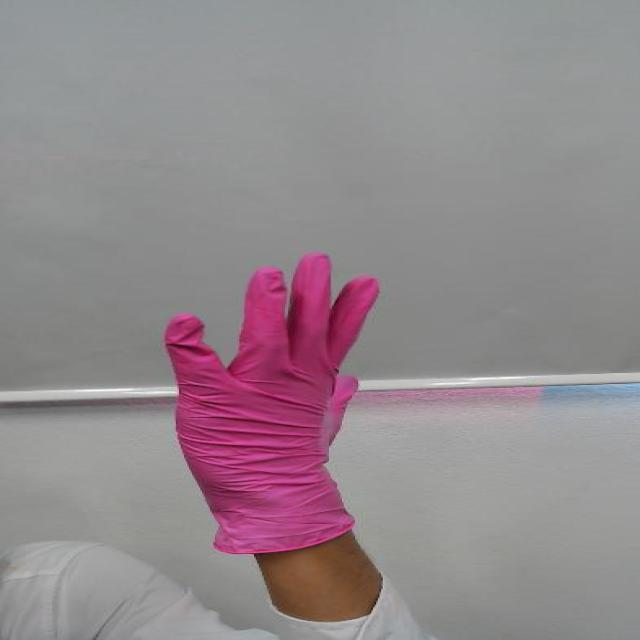gloved_hand: (150, 244, 404, 485)
